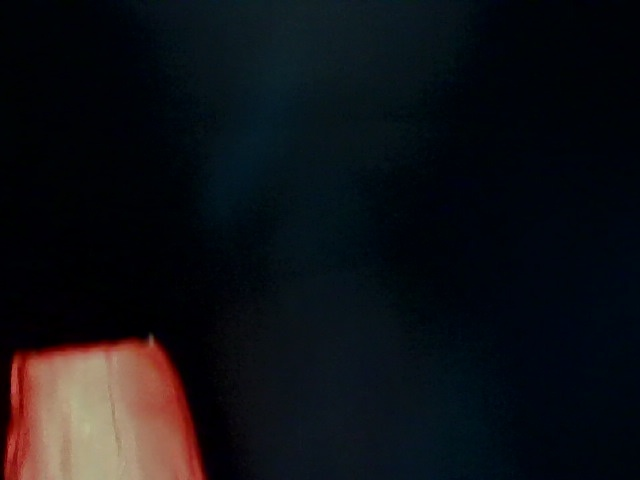CYLJ: (348, 196, 638, 480)
